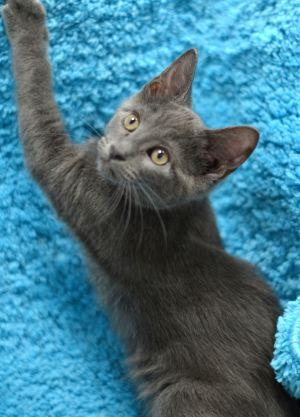rblue: (83, 36, 269, 231)
